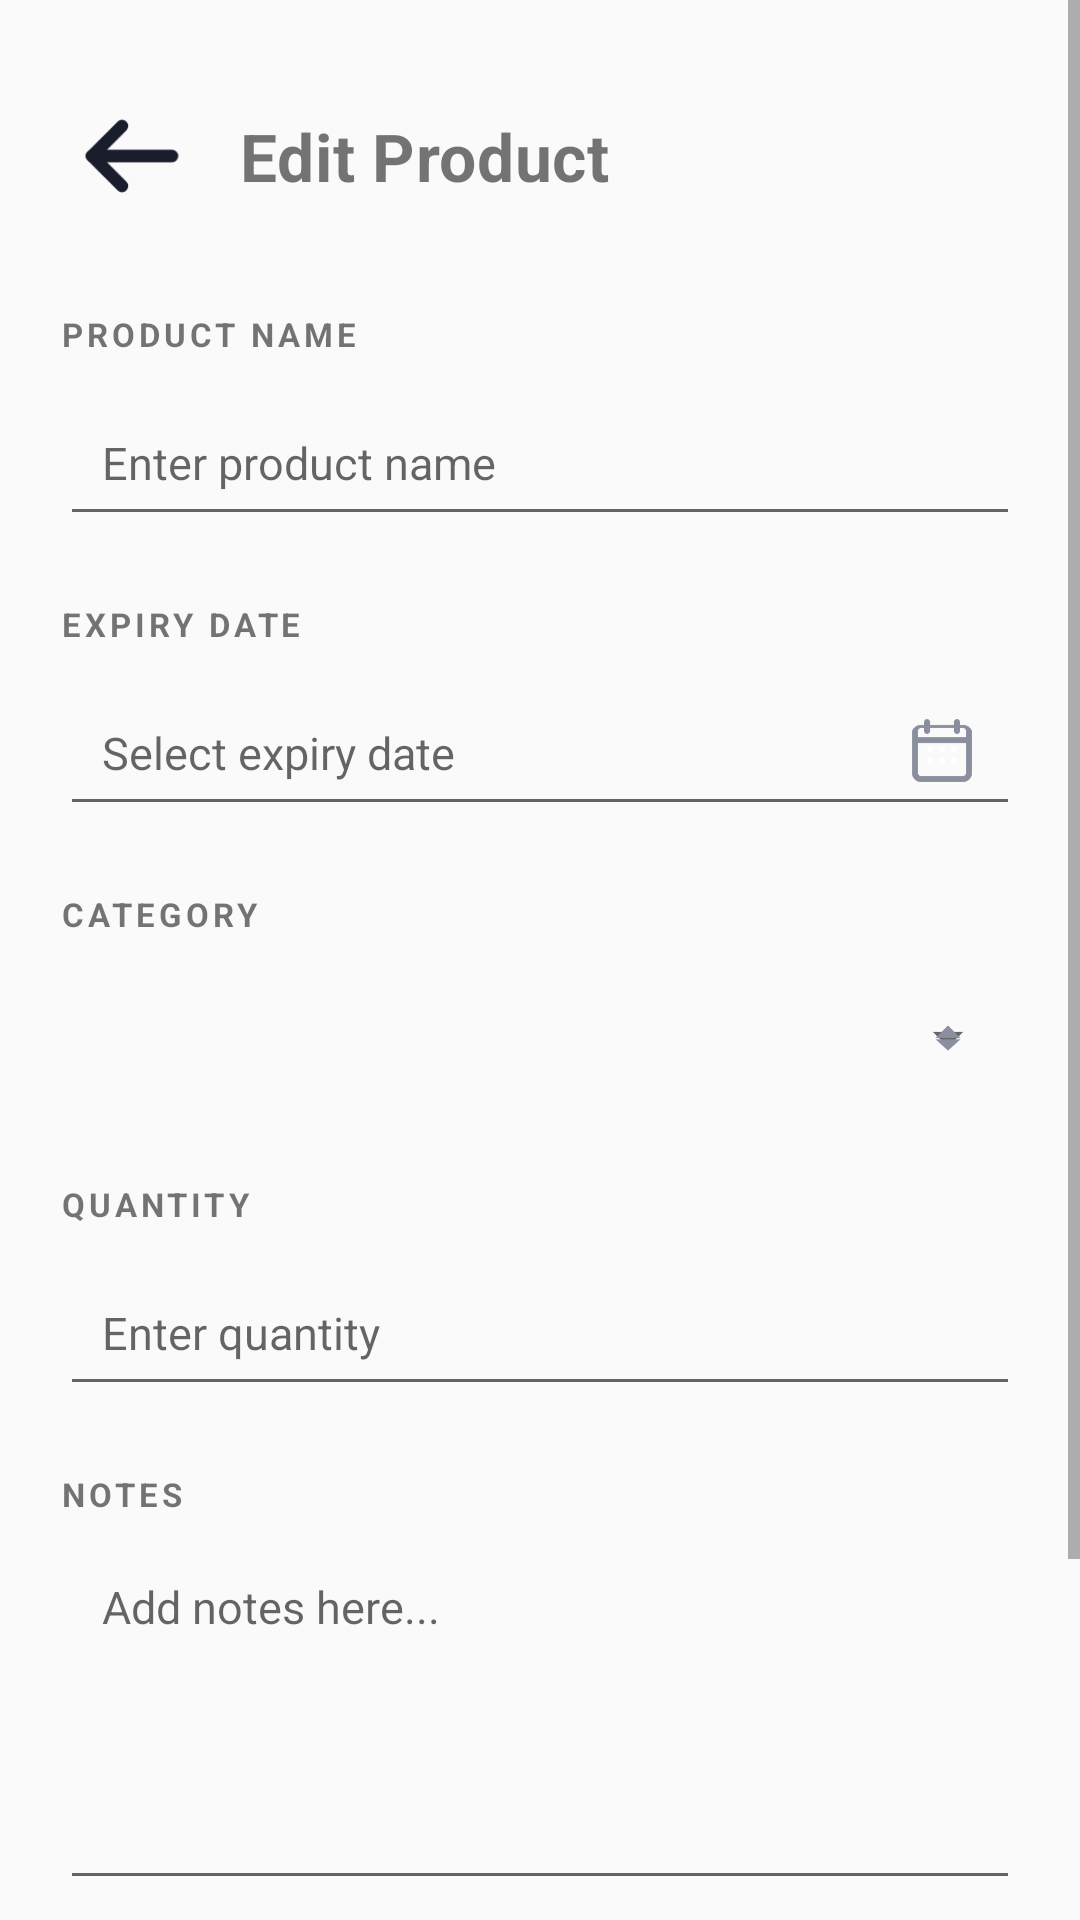

Named icons in this screenshot (1080 × 1920) and their centers, (x=x, y=y):
Go back: (x=132, y=156)
